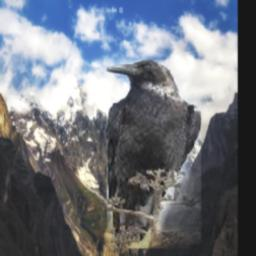Crow: (106, 60, 200, 248)
